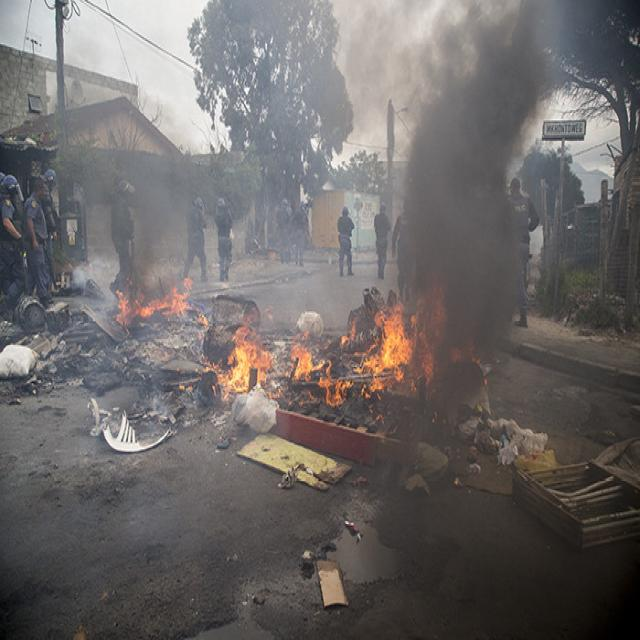fire: (217, 329, 275, 394), (361, 310, 413, 376), (114, 285, 191, 325), (288, 339, 320, 378)
smoke: (403, 5, 510, 280)
